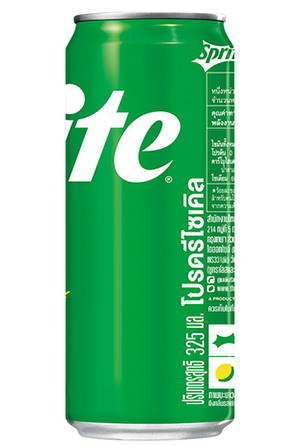can: (52, 7, 245, 444)
